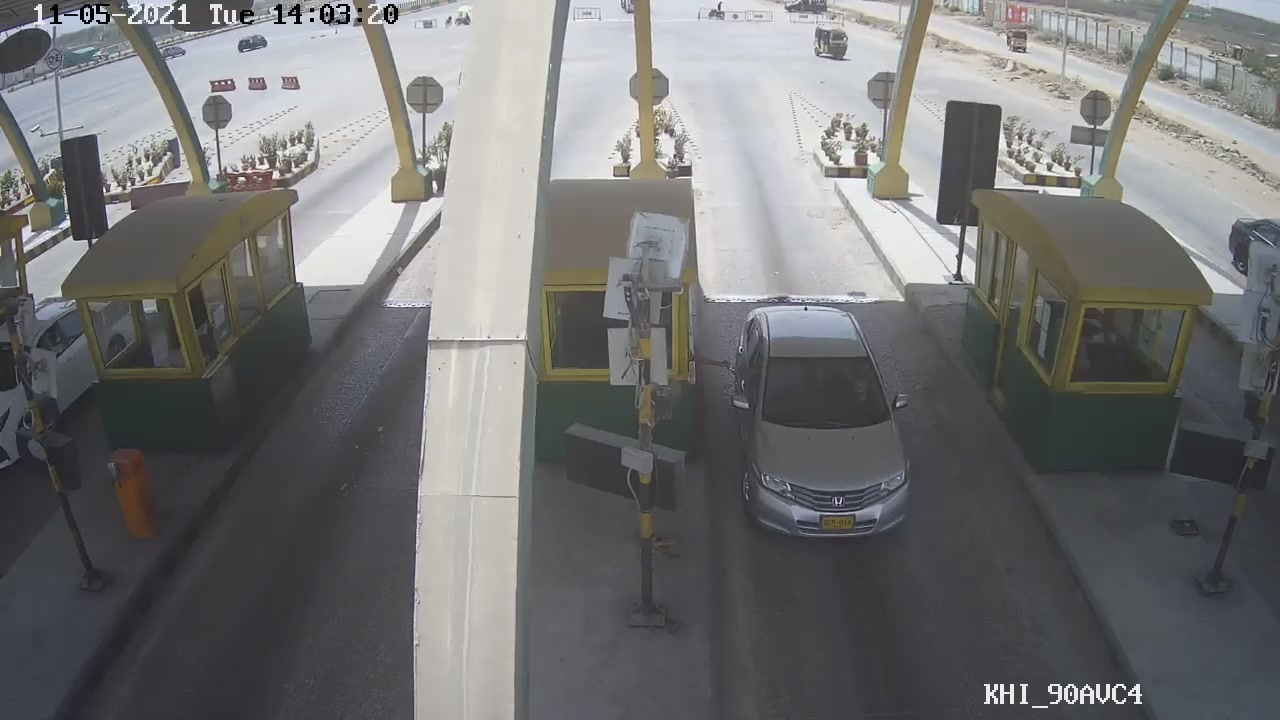F1: (716, 293, 920, 556)
